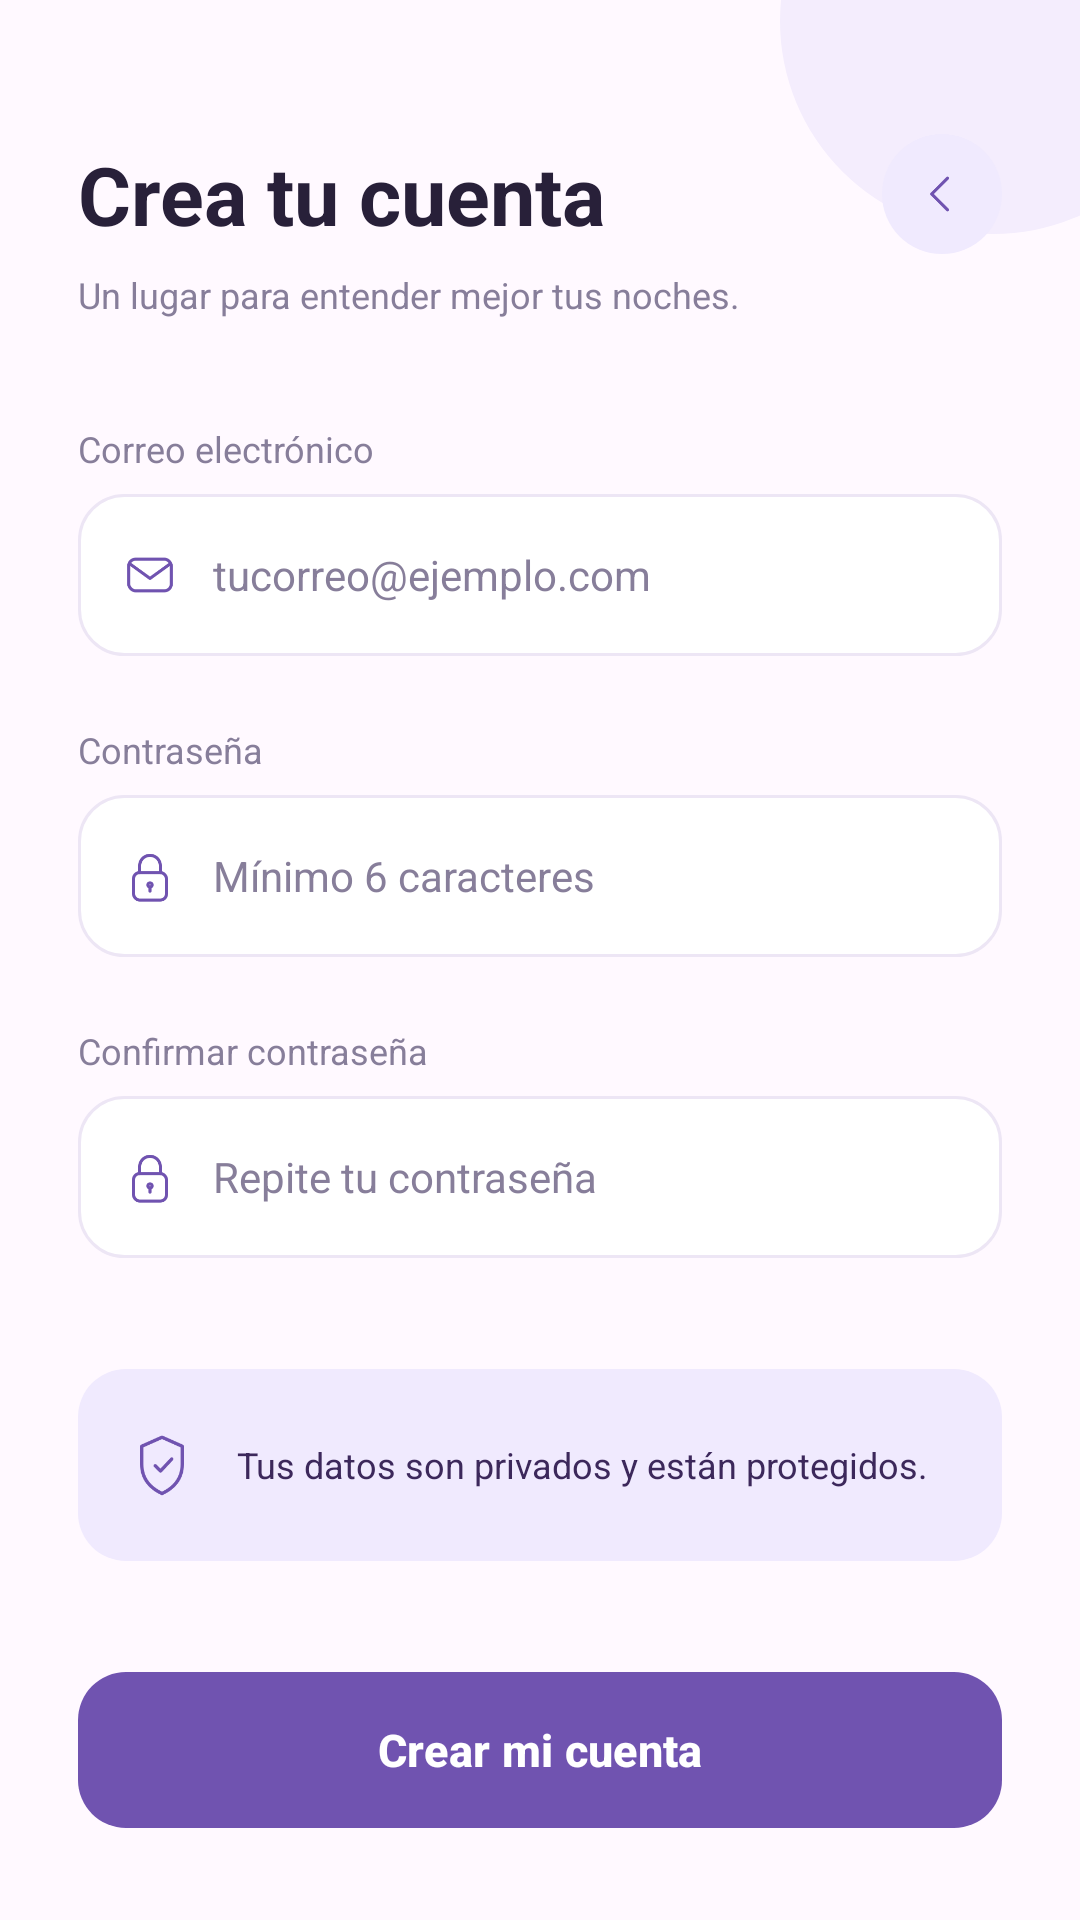

Locate icon controls on the screen. Image size 1080w x 1920h, boxes as (x1, y1, x2, y2).
Icono de candado: (132, 854, 168, 902), (132, 1155, 168, 1203)
Icono de correo: (127, 557, 173, 593)
Icono de privacidad: (140, 1435, 184, 1495)
Volver a iniciar sesión: (930, 176, 949, 212)
